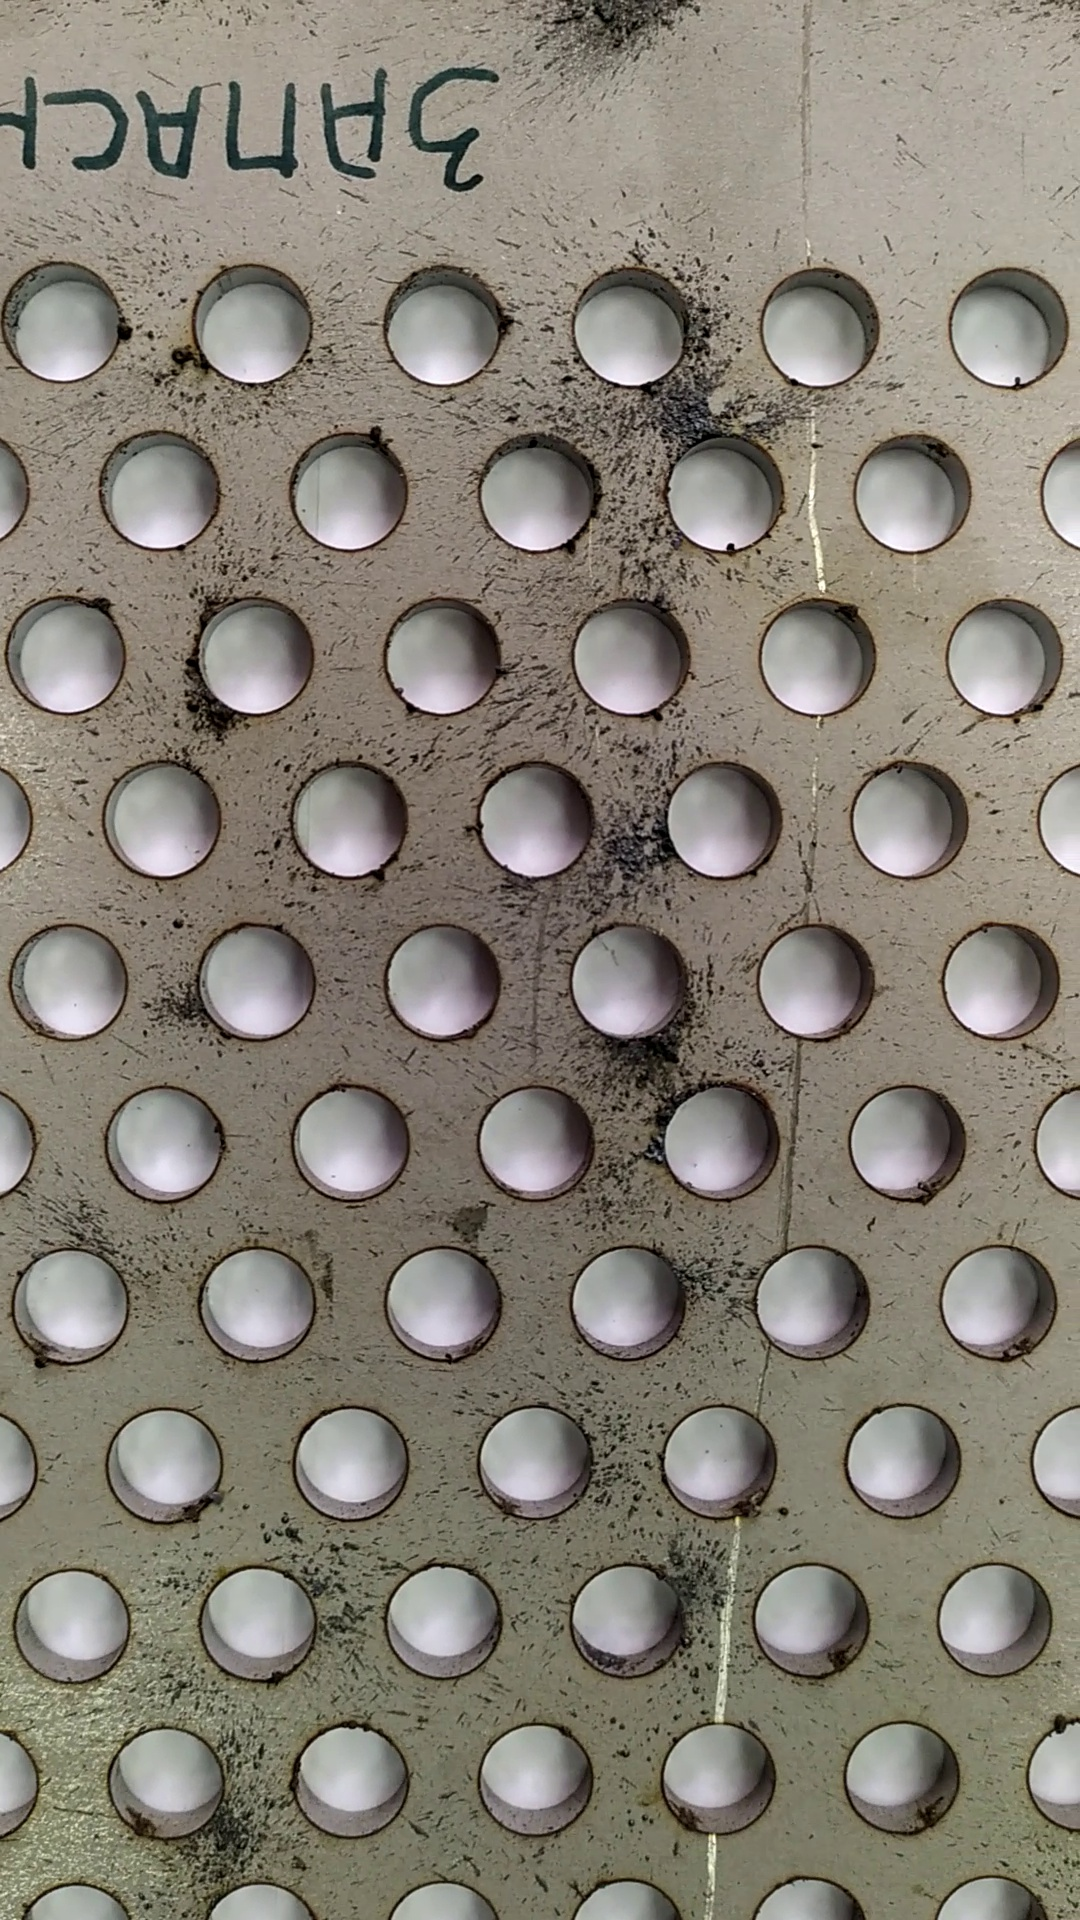Hole: (273, 417, 433, 564), (749, 252, 895, 401), (556, 240, 696, 393), (745, 1556, 891, 1698), (79, 419, 229, 558), (365, 256, 518, 392), (649, 426, 802, 562), (555, 1549, 698, 1695), (91, 1077, 243, 1213), (463, 754, 616, 889), (91, 1396, 245, 1530), (177, 585, 330, 719), (181, 255, 324, 396), (1, 913, 145, 1054), (94, 750, 240, 889), (463, 425, 611, 562), (832, 750, 982, 885), (1, 243, 132, 397), (1, 578, 142, 720), (745, 587, 889, 727), (277, 1073, 425, 1209), (653, 750, 794, 891), (3, 1557, 152, 1691), (465, 1073, 607, 1213), (828, 1396, 973, 1532), (938, 256, 1077, 396), (843, 417, 981, 558), (185, 1556, 326, 1695), (555, 585, 698, 723), (191, 1240, 334, 1377), (556, 1234, 700, 1370), (742, 916, 889, 1050), (373, 1238, 520, 1371), (272, 1712, 419, 1844), (553, 915, 702, 1046), (738, 1236, 887, 1366), (644, 1716, 793, 1846), (377, 587, 516, 727), (367, 913, 508, 1050), (932, 913, 1073, 1050), (645, 1075, 793, 1205), (645, 1393, 785, 1530), (932, 583, 1065, 727), (281, 752, 419, 889), (928, 1234, 1067, 1371), (369, 1552, 508, 1689), (833, 1713, 975, 1847), (100, 1716, 240, 1850), (189, 911, 326, 1046), (924, 1556, 1069, 1683), (7, 1236, 140, 1373), (284, 1399, 418, 1532), (465, 1399, 604, 1528), (840, 1077, 973, 1211), (469, 1712, 604, 1842)
